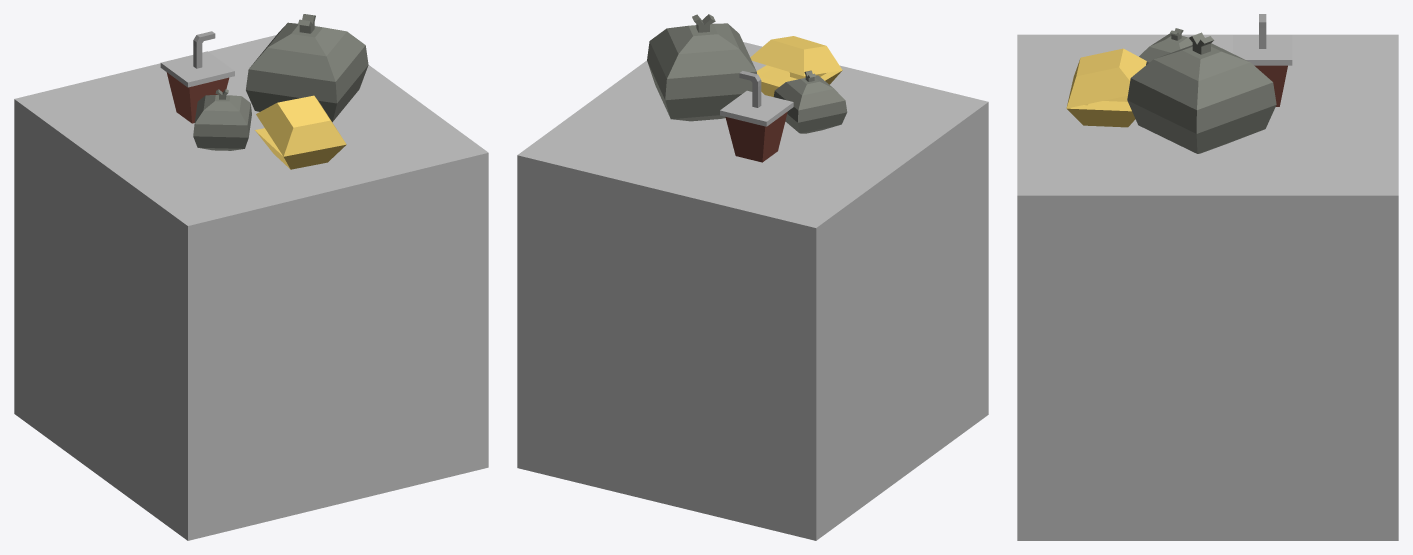
The model's file is garbage_block.fbx.
The picture shows the model from 3 angles, left to right: view 1: azimuth 30°, elevation 25°; view 2: azimuth 150°, elevation 25°; view 3: azimuth 270°, elevation 25°; orthographic projection. The views are drawn at different scales.
Parts seen in each view (by area): view 1: floor_road99, garbege_bag_big, garbage_bambergar, garbage_drink1, garbege_bag_small; view 2: floor_road99, garbege_bag_big, garbage_drink1, garbage_bambergar, garbege_bag_small; view 3: floor_road99, garbege_bag_big, garbage_bambergar, garbage_drink1, garbege_bag_small.
Part boxes in pixels (x1,y1,x2,y2): floor_road99: (14,26,488,540); garbege_bag_big: (246,14,368,122); garbage_bambergar: (255,95,346,169); garbage_drink1: (160,31,234,123); garbege_bag_small: (193,89,251,150); floor_road99: (517,42,988,540); garbege_bag_big: (647,14,756,121); garbage_drink1: (720,71,793,162); garbage_bambergar: (750,36,842,96); garbege_bag_small: (773,70,847,133); floor_road99: (1017,34,1398,540); garbege_bag_big: (1127,32,1276,153); garbage_bambergar: (1066,48,1146,127); garbage_drink1: (1233,14,1292,106); garbege_bag_small: (1139,28,1192,64).
Bounding box in the file's own units: 5 × 6.55 × 5.
